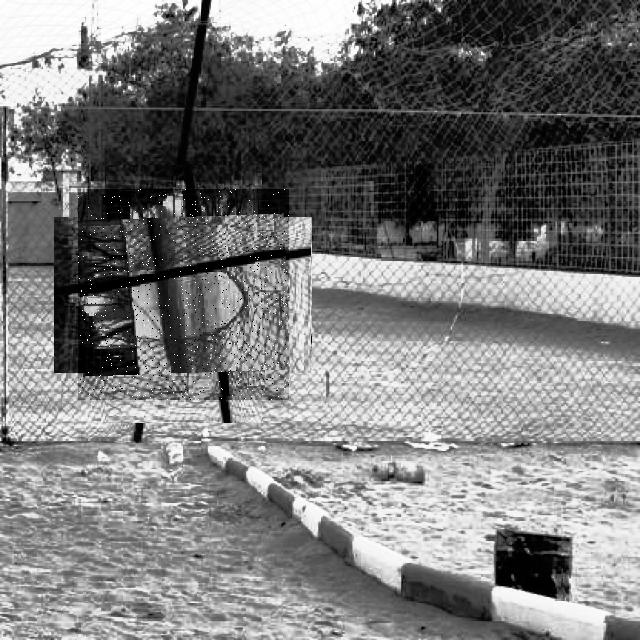anomaly-fence: (78, 189, 289, 400)
